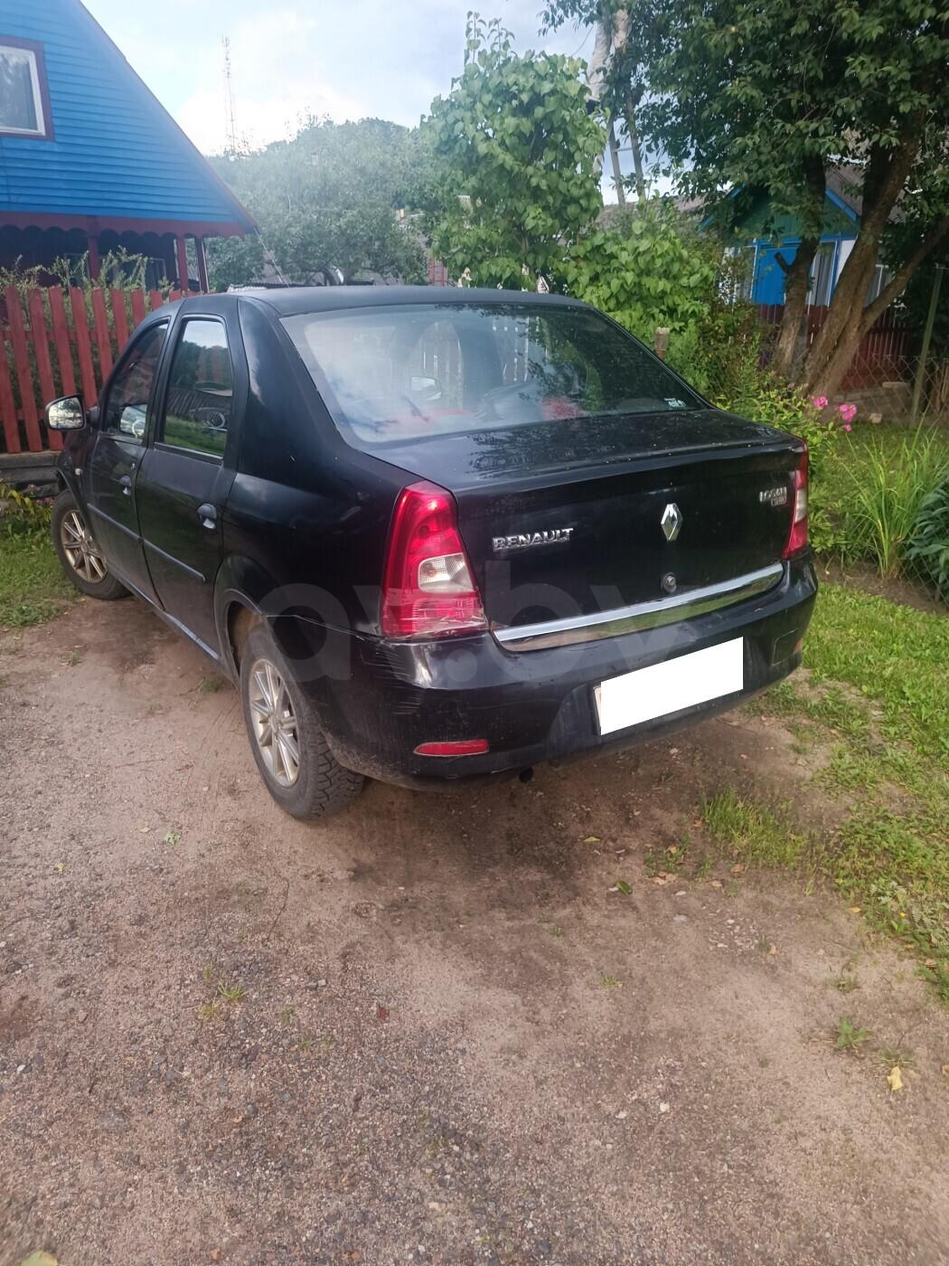Logan_2008-2015: (36, 279, 822, 825)
